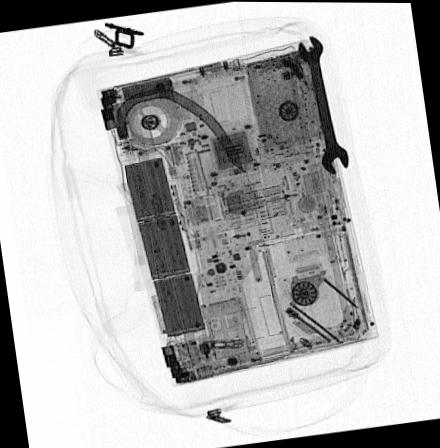Wrench: (297, 36, 348, 174)
